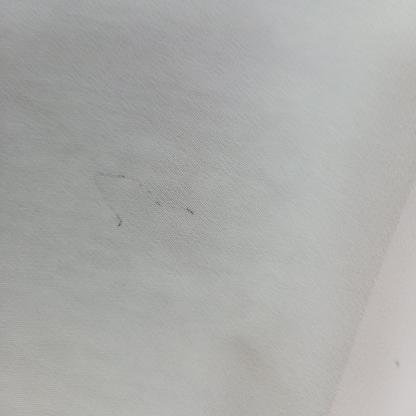spot: (92, 160, 208, 230), (389, 352, 402, 372)
